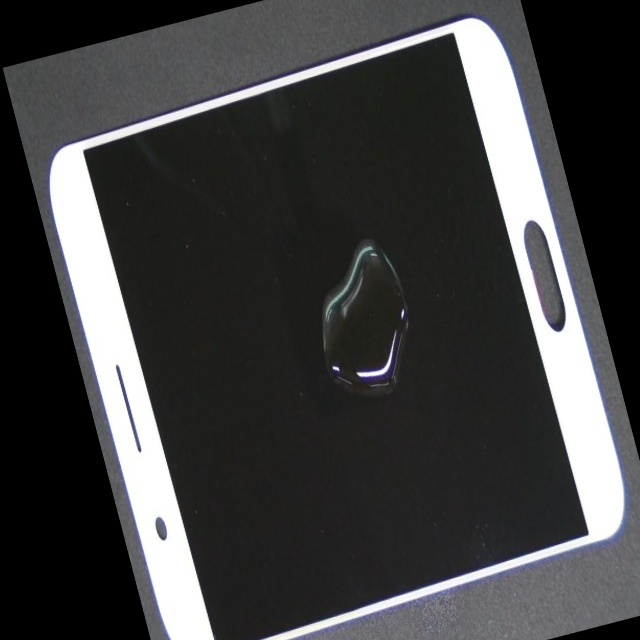oil: (211, 101, 575, 427)
